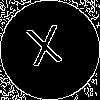X: (25, 25, 67, 76)
